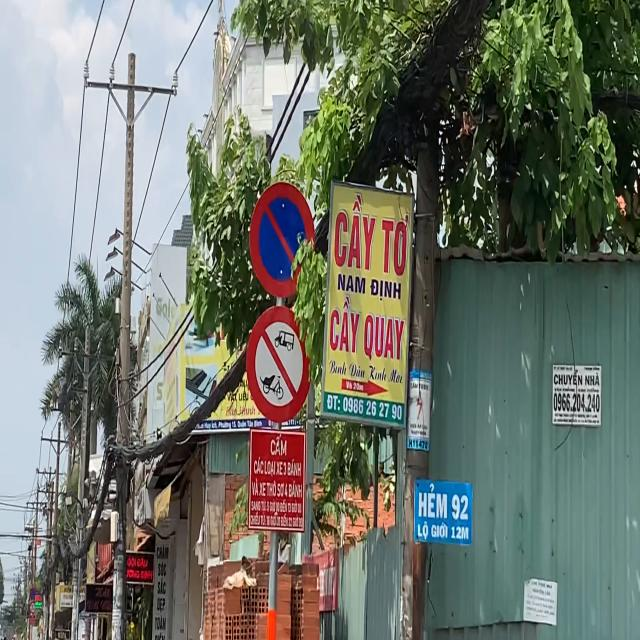Cam con lai: (245, 302, 313, 424)
Cam do: (247, 178, 317, 300)
